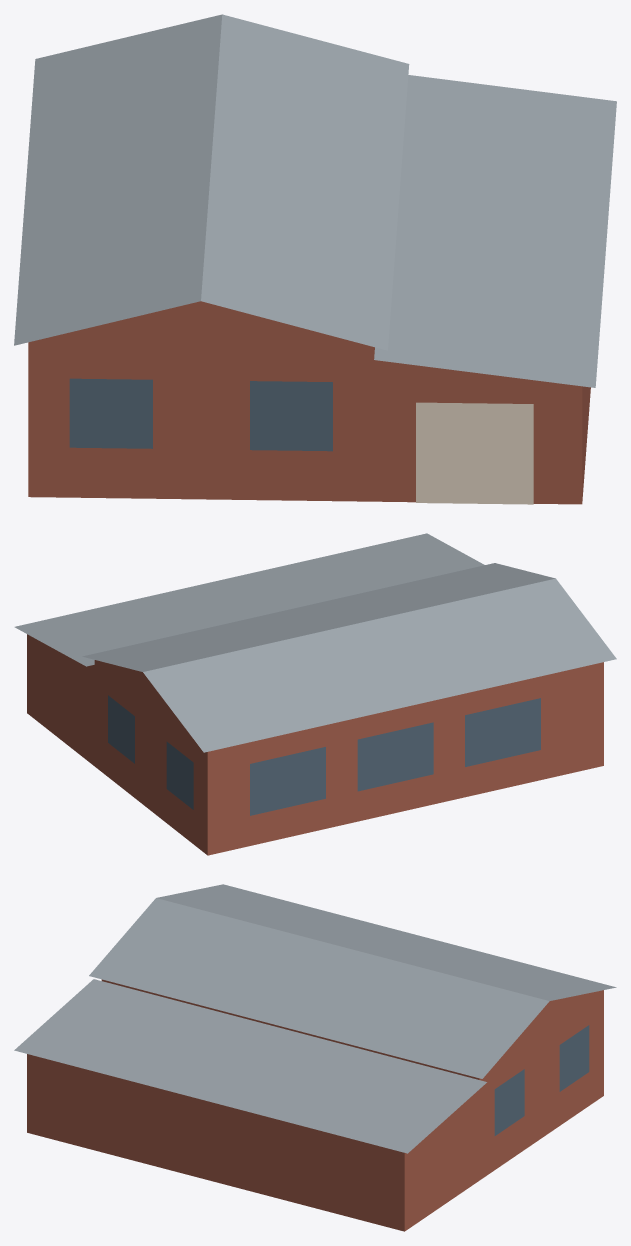
Rendered from detail.glb.
3 renders of one model, top to bottom at view 1: azimuth 30°, elevation 25°; view 2: azimuth 150°, elevation 25°; view 3: azimuth 270°, elevation 25°, orthographic. The views are drawn at different scales.
Visible parts, largest first — view 1: crossroad-shed-camp-north-end; view 2: crossroad-shed-camp-north-end; view 3: crossroad-shed-camp-north-end.
Part boxes in pixels (box(x1,y1,x2,y2)): crossroad-shed-camp-north-end: box(14, 14, 616, 504); crossroad-shed-camp-north-end: box(14, 533, 616, 855); crossroad-shed-camp-north-end: box(14, 884, 616, 1231).
Bounding box in the file's own units: 24.61 × 6.5 × 25.51.
